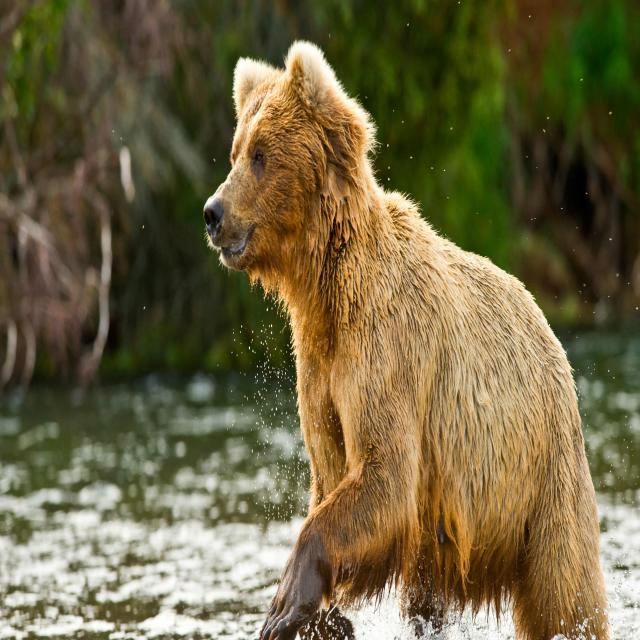Bear: (201, 40, 612, 640)
